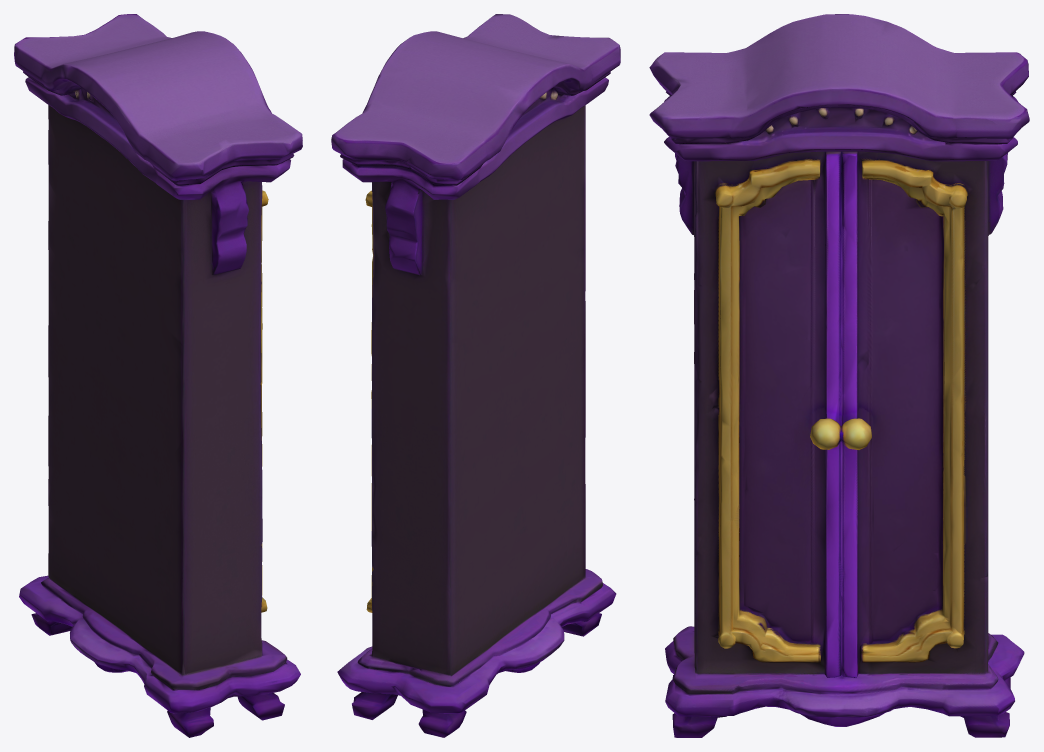
File: wardrobe.glb
3 renders of one model, left to right at view 1: azimuth 30°, elevation 25°; view 2: azimuth 150°, elevation 25°; view 3: azimuth 270°, elevation 25°, orthographic. The views are drawn at different scales.
Visible parts, largest first — view 1: tripo_node_e35379ce-8e45-451c-868d-5d1746e3cf8f; view 2: tripo_node_e35379ce-8e45-451c-868d-5d1746e3cf8f; view 3: tripo_node_e35379ce-8e45-451c-868d-5d1746e3cf8f.
Part boxes in pixels (x1=…): tripo_node_e35379ce-8e45-451c-868d-5d1746e3cf8f: x1=14, y1=14, x2=302, y2=737; tripo_node_e35379ce-8e45-451c-868d-5d1746e3cf8f: x1=331, y1=14, x2=620, y2=737; tripo_node_e35379ce-8e45-451c-868d-5d1746e3cf8f: x1=649, y1=14, x2=1029, y2=737.
Bounding box in the file's own units: 0.2612 × 1 × 0.52.
1 material, 1 textured.
